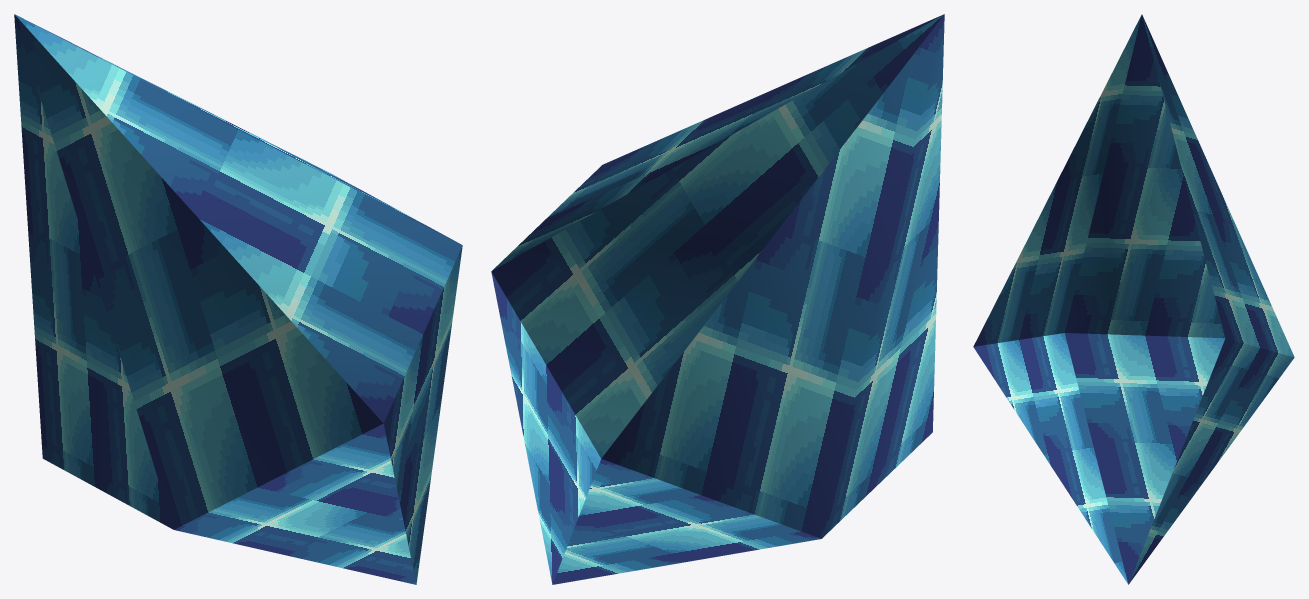
The model's file is 2755item2755.gltf.
3 renders of one model, left to right at view 1: azimuth 30°, elevation 25°; view 2: azimuth 150°, elevation 25°; view 3: azimuth 270°, elevation 25°, orthographic. The views are drawn at different scales.
Visible parts, largest first — view 1: 2755item2755; view 2: 2755item2755; view 3: 2755item2755.
Part boxes in pixels (<box>): 2755item2755: <box>14,14,462,584</box>; 2755item2755: <box>491,14,944,584</box>; 2755item2755: <box>973,14,1294,584</box>.
Size of the model in its own units: 0.1581 by 0.2539 by 0.1672.
Materials: 1 (1 with a texture image).
